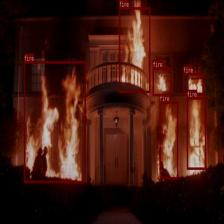fire: (24, 61, 86, 183), (119, 7, 150, 92), (159, 102, 178, 178), (187, 97, 206, 169), (152, 67, 172, 95), (183, 73, 203, 95)
